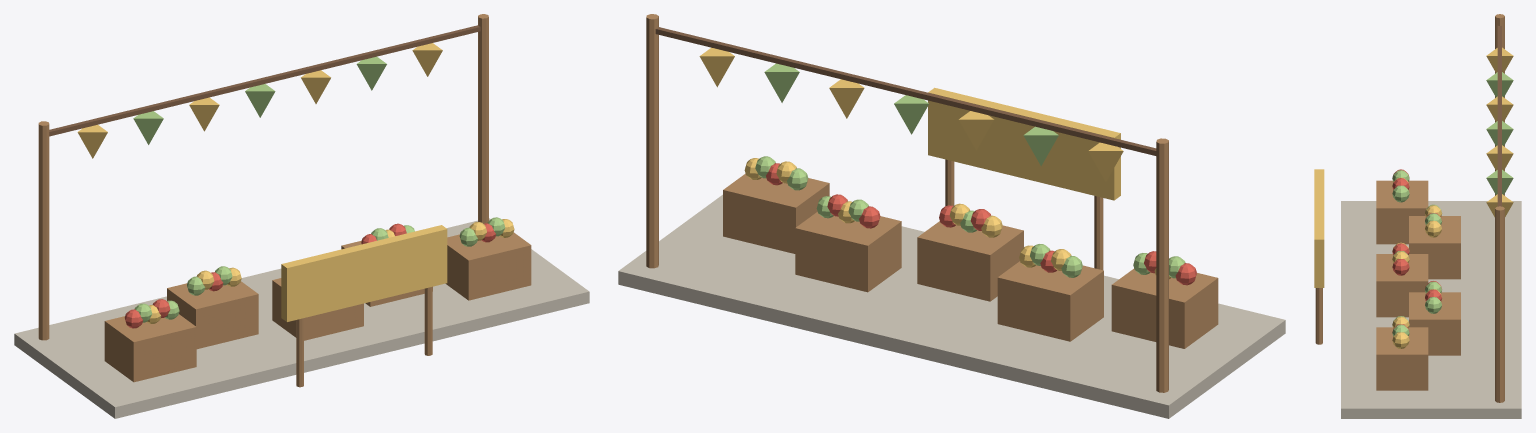
The model's file is market-decor-CbvGRzHU.glb.
3 views of the same model, side by side, from view 1: azimuth 30°, elevation 25°; view 2: azimuth 150°, elevation 25°; view 3: azimuth 270°, elevation 25° (orthographic). The views are drawn at different scales.
Parts seen in each view (by area): view 1: Market_Decor_Base, Market_Sign_Board, Market_Crate_0, Market_Crate_4, Market_Crate_1, Market_Banner_Rope, Market_Banner_Post_-3.15, Market_Banner_Post_3.15, Market_Crate_2, Market_Sign_Post_Right, Market_Bunting_2, Market_Bunting_0 (+6 smaller); view 2: Market_Decor_Base, Market_Sign_Board, Market_Crate_1, Market_Crate_3, Market_Crate_2, Market_Crate_0, Market_Crate_4, Market_Banner_Rope, Market_Banner_Post_-3.15, Market_Banner_Post_3.15, Market_Bunting_3, Market_Bunting_4 (+6 smaller); view 3: Market_Decor_Base, Market_Crate_4, Market_Crate_2, Market_Crate_1, Market_Crate_0, Market_Crate_3, Market_Banner_Post_3.15, Market_Sign_Board, Market_Banner_Rope, Market_Sign_Post_Right, Market_Bunting_2, Market_Bunting_4 (+11 smaller).
Part boxes in pixels (bbox=[...]): Market_Decor_Base: bbox=[14, 218, 589, 418]; Market_Sign_Board: bbox=[281, 225, 447, 321]; Market_Crate_0: bbox=[104, 314, 196, 382]; Market_Crate_4: bbox=[445, 232, 531, 300]; Market_Crate_1: bbox=[167, 281, 258, 349]; Market_Banner_Rope: bbox=[49, 25, 480, 136]; Market_Banner_Post_-3.15: bbox=[38, 121, 49, 340]; Market_Banner_Post_3.15: bbox=[478, 14, 488, 223]; Market_Crate_2: bbox=[272, 278, 363, 340]; Market_Sign_Post_Right: bbox=[424, 286, 432, 355]; Market_Bunting_2: bbox=[189, 97, 219, 131]; Market_Bunting_0: bbox=[77, 124, 107, 158]; Market_Decor_Base: bbox=[618, 194, 1285, 418]; Market_Sign_Board: bbox=[928, 87, 1120, 200]; Market_Crate_1: bbox=[997, 261, 1103, 341]; Market_Crate_3: bbox=[795, 212, 901, 292]; Market_Crate_2: bbox=[917, 221, 1023, 301]; Market_Crate_0: bbox=[1111, 268, 1218, 348]; Market_Crate_4: bbox=[723, 173, 829, 253]; Market_Banner_Rope: bbox=[655, 27, 1156, 155]; Market_Banner_Post_-3.15: bbox=[1156, 138, 1168, 392]; Market_Banner_Post_3.15: bbox=[646, 14, 658, 268]; Market_Bunting_3: bbox=[894, 95, 928, 134]; Market_Bunting_4: bbox=[829, 79, 864, 118]; Market_Decor_Base: bbox=[1341, 201, 1521, 418]; Market_Crate_4: bbox=[1376, 327, 1428, 390]; Market_Crate_2: bbox=[1376, 254, 1428, 317]; Market_Crate_1: bbox=[1409, 216, 1460, 279]; Market_Crate_0: bbox=[1376, 180, 1428, 244]; Market_Crate_3: bbox=[1409, 292, 1460, 355]; Market_Banner_Post_3.15: bbox=[1495, 206, 1504, 402]; Market_Sign_Board: bbox=[1314, 169, 1324, 287]; Market_Banner_Rope: bbox=[1497, 26, 1501, 206]; Market_Sign_Post_Right: bbox=[1315, 288, 1322, 344]; Market_Bunting_2: bbox=[1486, 96, 1513, 121]; Market_Bunting_4: bbox=[1486, 145, 1513, 170].
Bounding box in the file's own units: 6.8 × 3.1 × 2.87.
